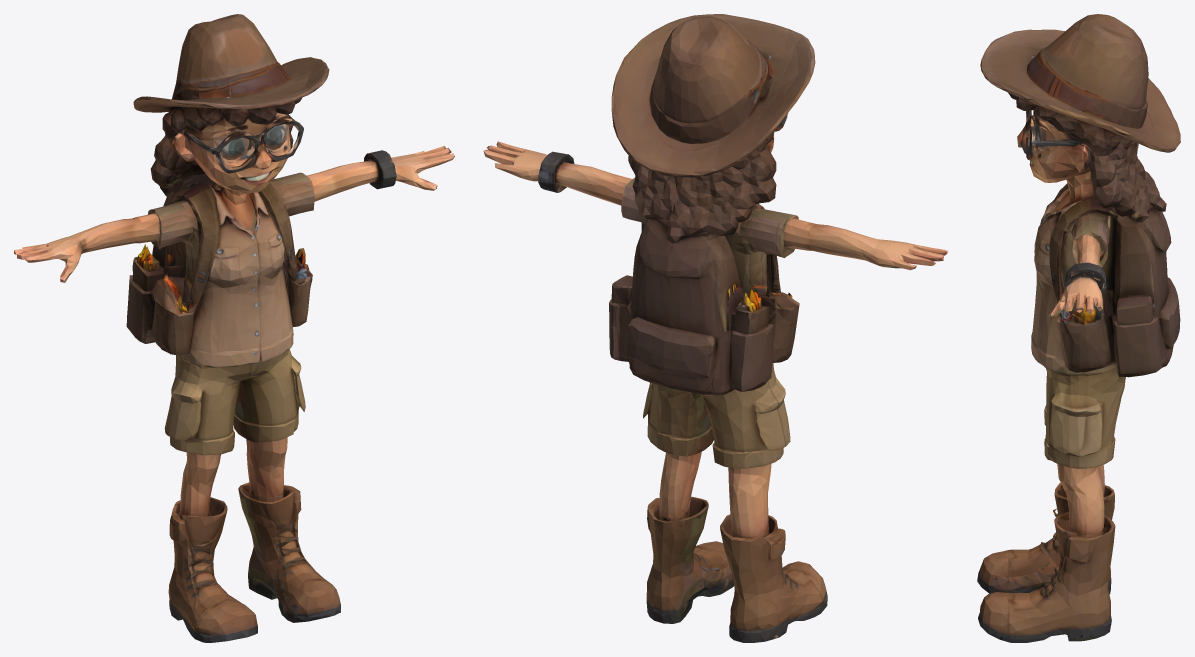
Rendered from A_young_female_archae_0329164450_texture.fbx.
3 views of the same model, side by side, from view 1: azimuth 30°, elevation 25°; view 2: azimuth 150°, elevation 25°; view 3: azimuth 270°, elevation 25° (orthographic). The views are drawn at different scales.
Parts seen in each view (by area): view 1: temp; view 2: temp; view 3: temp.
Part boxes in pixels (box(x1,y1,x2,y2)): temp: box(14, 14, 454, 642); temp: box(483, 14, 948, 642); temp: box(977, 14, 1180, 642).
Size of the model in its own units: 157 by 200 by 62.55.
1 material, 1 textured.
